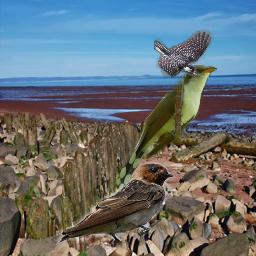Cuckoo: (116, 65, 217, 189)
Swallow: (55, 161, 175, 248)
Woodpecker: (154, 29, 214, 79)
